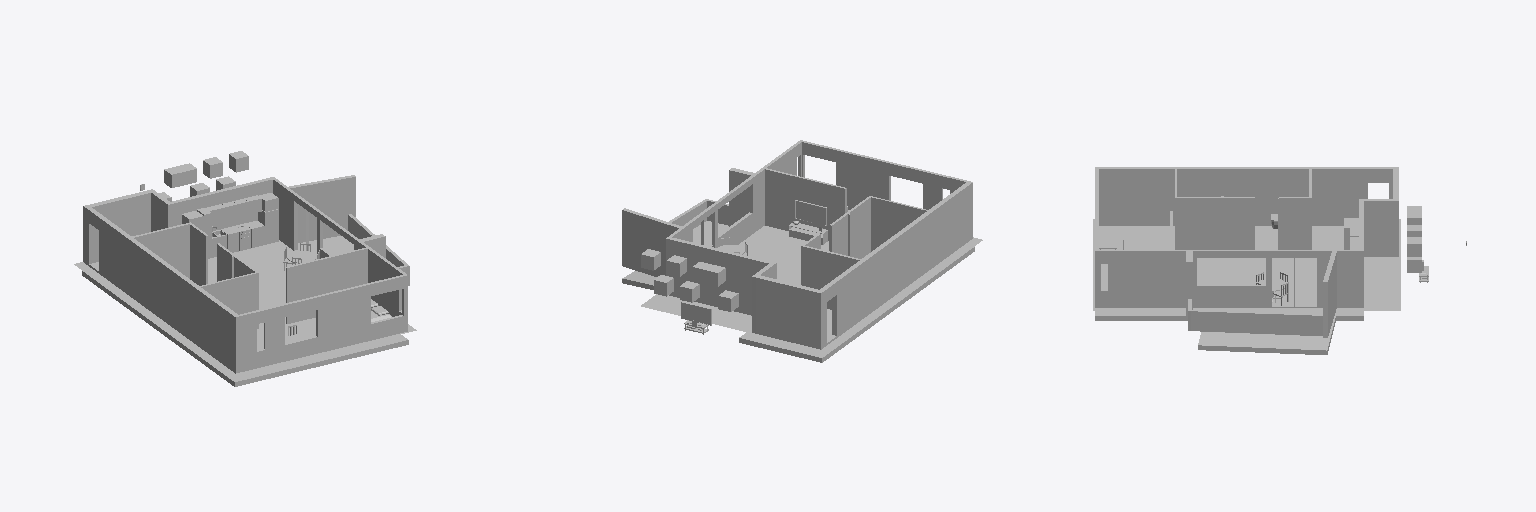
The model's file is OttoBrandt_2019-01-15_3.obj.
3 renders of one model, left to right at view 1: azimuth 30°, elevation 25°; view 2: azimuth 150°, elevation 25°; view 3: azimuth 270°, elevation 25°, orthographic.
Visible parts, largest first — view 1: wall_outer_Cube, wall_internal_Cube.013, Plane, roof_Cube.002, kitchen05.001_Cube.014, kitchen07_Cube.005; view 2: wall_outer_Cube, wall_internal_Cube.013, Plane, roof_Cube.002, bedroom_desk.001_Cube.016, Cube.010_Cube.027; view 3: wall_outer_Cube, Plane, wall_internal_Cube.013, roof_Cube.002.
Part boxes in pixels (bbox=[...]): wall_outer_Cube: bbox=[83, 175, 409, 373]; wall_internal_Cube.013: bbox=[132, 222, 367, 328]; Plane: bbox=[74, 236, 416, 376]; roof_Cube.002: bbox=[82, 271, 408, 386]; kitchen05.001_Cube.014: bbox=[205, 195, 261, 223]; kitchen07_Cube.005: bbox=[258, 209, 278, 244]; wall_outer_Cube: bbox=[622, 140, 972, 349]; wall_internal_Cube.013: bbox=[764, 168, 927, 309]; Plane: bbox=[641, 210, 982, 351]; roof_Cube.002: bbox=[622, 247, 974, 362]; bedroom_desk.001_Cube.016: bbox=[681, 302, 711, 334]; Cube.010_Cube.027: bbox=[795, 200, 826, 225]; wall_outer_Cube: bbox=[1095, 167, 1398, 337]; Plane: bbox=[1093, 219, 1400, 313]; wall_internal_Cube.013: bbox=[1170, 169, 1311, 250]; roof_Cube.002: bbox=[1095, 311, 1363, 354].
Size of the model in its own units: 11.35 by 3.53 by 15.05.